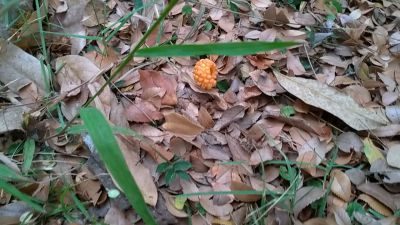eggs: (191, 55, 220, 87)
